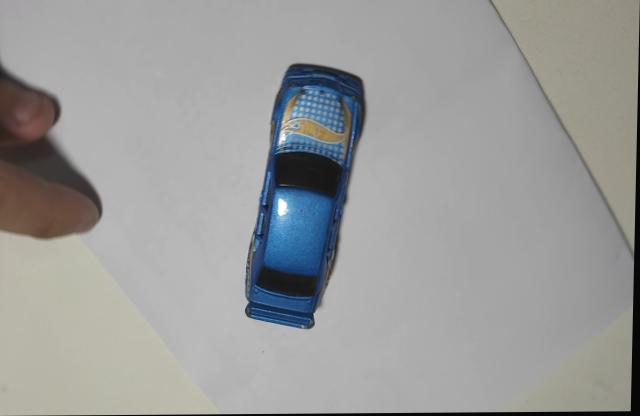04_MERZEDES: (245, 63, 368, 329)
